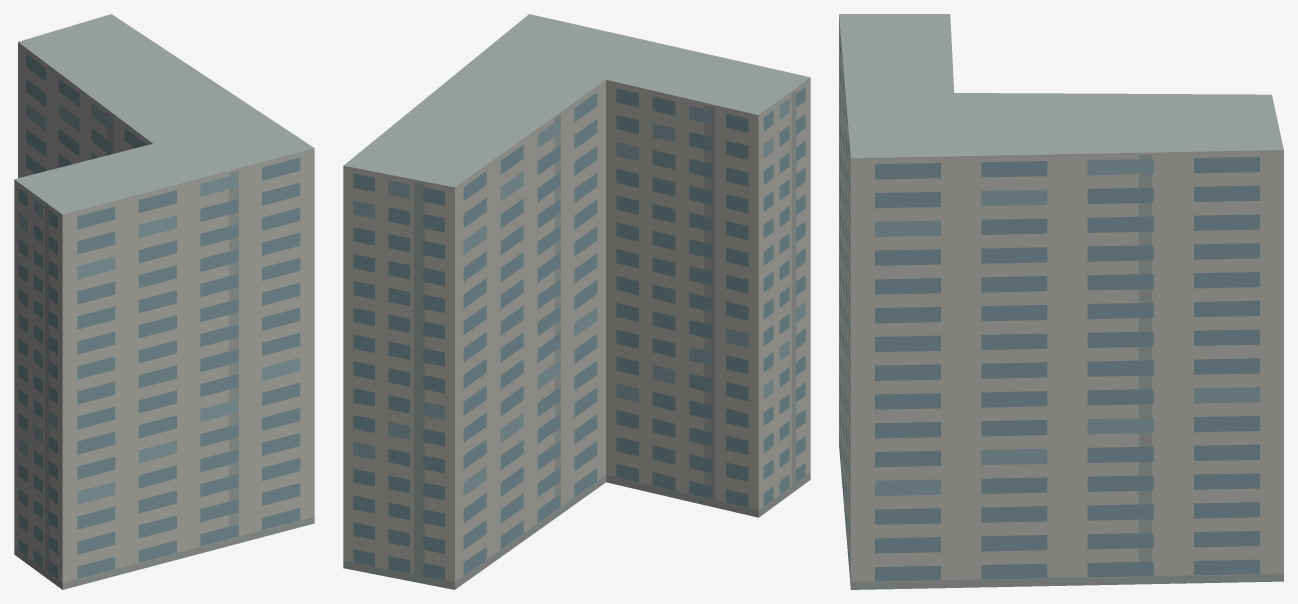
The model's file is residential-61f615f6-c6a3-4d4b-9c0e-b31f8e8b9dba.glb.
The picture shows the model from 3 angles, left to right: view 1: azimuth 30°, elevation 25°; view 2: azimuth 150°, elevation 25°; view 3: azimuth 270°, elevation 25°; orthographic projection. The views are drawn at different scales.
Visible parts, largest first — view 1: residential-61f615f6-c6a3-4d4b-9c0e-b31f8e8b9dba.tmp; view 2: residential-61f615f6-c6a3-4d4b-9c0e-b31f8e8b9dba.tmp; view 3: residential-61f615f6-c6a3-4d4b-9c0e-b31f8e8b9dba.tmp.
Boxes of the visible parts, x1,y1,x2,y2 form: residential-61f615f6-c6a3-4d4b-9c0e-b31f8e8b9dba.tmp: [14, 14, 314, 589]; residential-61f615f6-c6a3-4d4b-9c0e-b31f8e8b9dba.tmp: [343, 14, 810, 589]; residential-61f615f6-c6a3-4d4b-9c0e-b31f8e8b9dba.tmp: [839, 14, 1283, 589].
Size of the model in its own units: 30.86 by 43 by 40.18.
